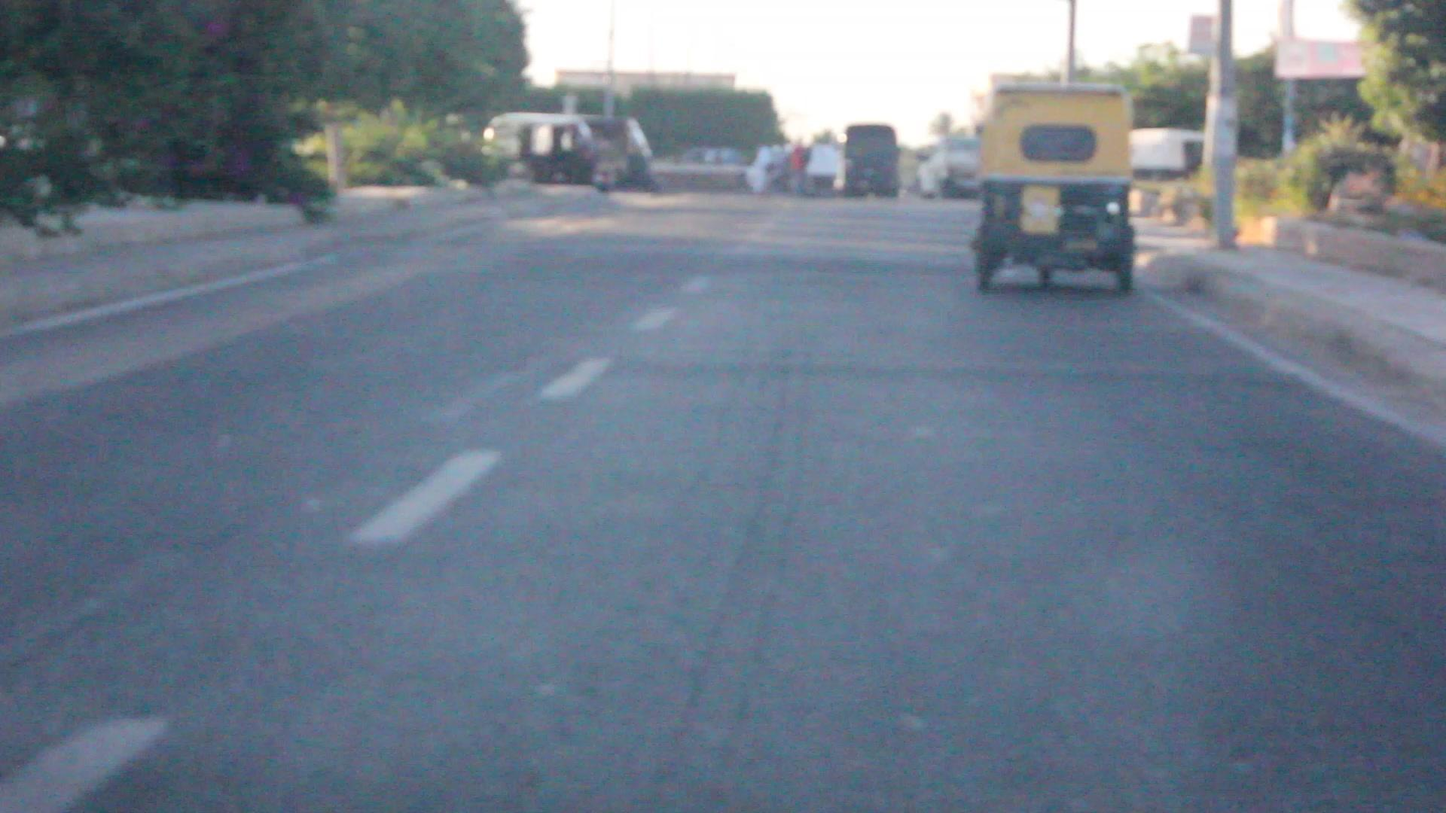Bump: (373, 243, 964, 288)
